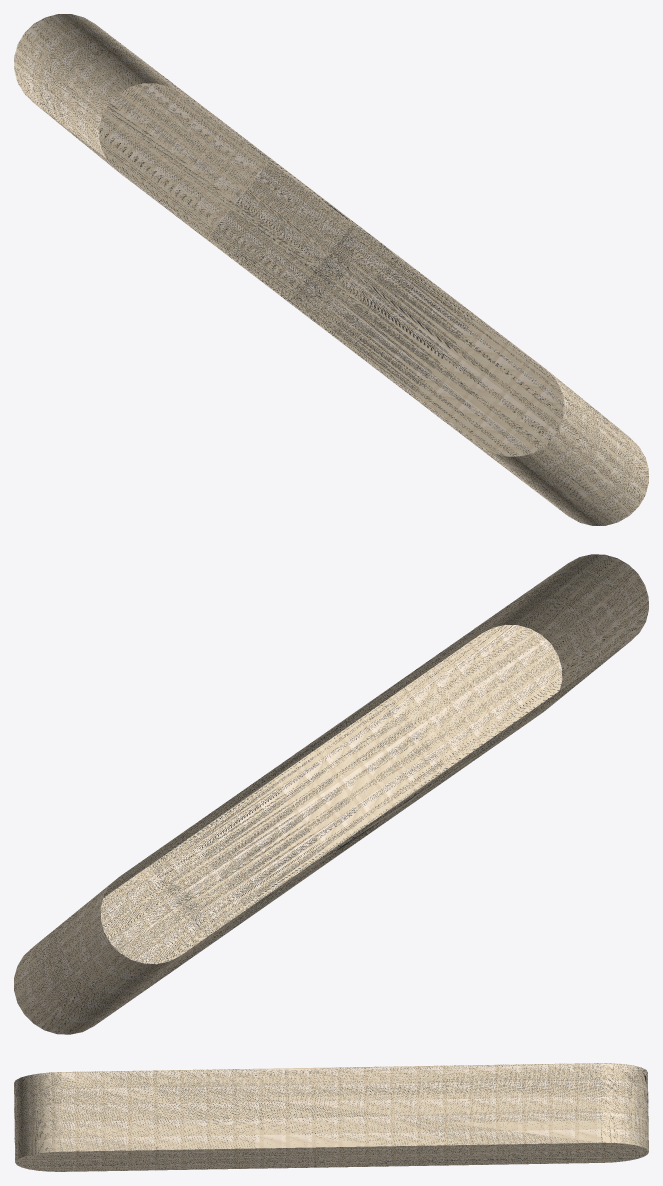
File: original-266.obj
3 views of the same model, one above another, from view 1: azimuth 30°, elevation 25°; view 2: azimuth 150°, elevation 25°; view 3: azimuth 270°, elevation 25° (orthographic). The views are drawn at different scales.
Visible parts, largest first — view 1: mesh116/mesh116-geometry/material_1/component_11#mesh116-geometr; view 2: mesh116/mesh116-geometry/material_1/component_11#mesh116-geometr; view 3: mesh116/mesh116-geometry/material_1/component_11#mesh116-geometr.
Part boxes in pixels (x1,y1,x2,y2): mesh116/mesh116-geometry/material_1/component_11#mesh116-geometr: [14, 14, 648, 525]; mesh116/mesh116-geometry/material_1/component_11#mesh116-geometr: [14, 554, 648, 1034]; mesh116/mesh116-geometry/material_1/component_11#mesh116-geometr: [14, 1063, 648, 1171].
Bounding box in the file's own units: 0.0369 × 0.0405 × 0.229.
